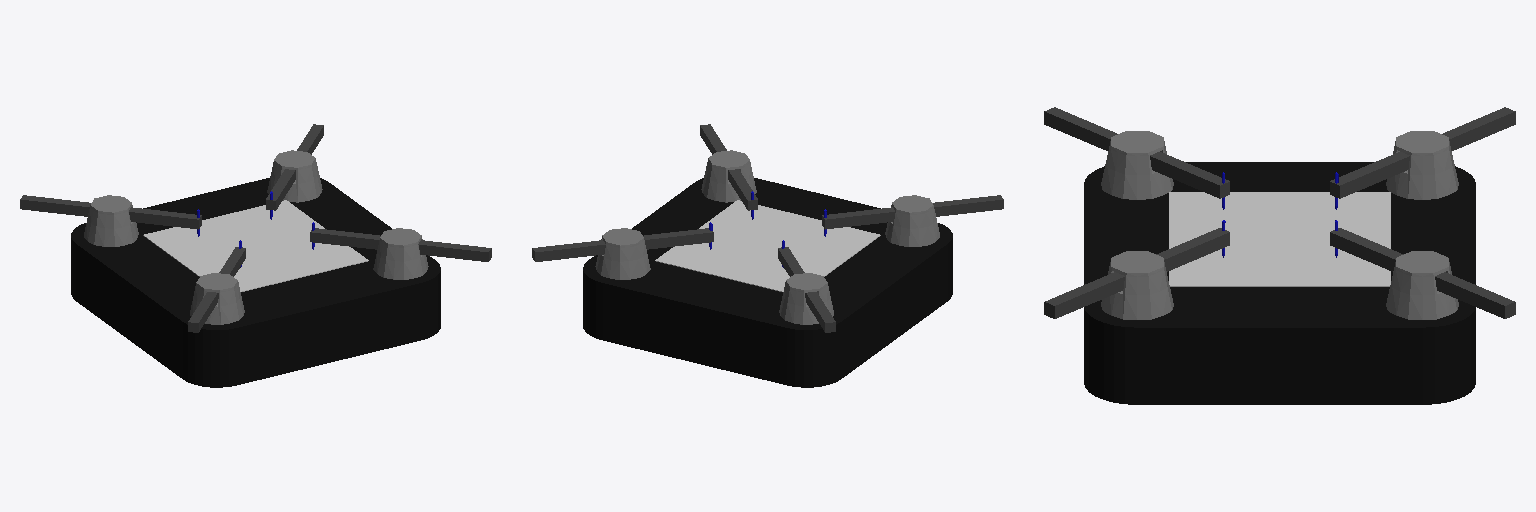
URDF robot description (RAI Robot):
<?xml version="1.0"?>
<robot name="RAI Robot">

<!-- Base Link -->
<link name="base_link">
    <visual>
        <geometry>
            <mesh filename="../models/Base.stl" />
        </geometry>
        <material>
            <color rgba="0.1 0.1 0.1 1.0" />
        </material>
    </visual>
</link>

<!-- Arm 1 -->
<link name="arm_link_1">
    <visual>
        <geometry>
            <mesh filename="../models/Arm.stl" />
        </geometry>
        <material>
            <color rgba="0.3 0.3 0.3 1.0" />
        </material>
    </visual>
</link>
<link name="hub_link_1">
    <visual>
        <geometry>
            <mesh filename="../models/Hub.stl" />
        </geometry>
        <material>
            <color rgba="0.5 0.5 0.5 1.0" />
        </material>
    </visual>
</link>
<link name="pen_link_1">
    <visual>
        <geometry>
            <mesh filename="../models/Pen.stl" />
        </geometry>
        <material>
            <color rgba="0.1 0.1 0.8 1.0" />
        </material>
    </visual>
</link>

<!-- Arm 2 -->
<link name="arm_link_2">
    <visual>
        <geometry>
            <mesh filename="../models/Arm.stl" />
        </geometry>
        <material>
            <color rgba="0.3 0.3 0.3 1.0" />
        </material>
    </visual>
</link>
<link name="hub_link_2">
    <visual>
        <geometry>
            <mesh filename="../models/Hub.stl" />
        </geometry>
        <material>
            <color rgba="0.5 0.5 0.5 1.0" />
        </material>
    </visual>
</link>
<link name="pen_link_2">
    <visual>
        <geometry>
            <mesh filename="../models/Pen.stl" />
        </geometry>
        <material>
            <color rgba="0.1 0.1 0.8 1.0" />
        </material>
    </visual>
</link>

<!-- Arm 3 -->
<link name="arm_link_3">
    <visual>
        <geometry>
            <mesh filename="../models/Arm.stl" />
        </geometry>
        <material>
            <color rgba="0.3 0.3 0.3 1.0" />
        </material>
    </visual>
</link>
<link name="hub_link_3">
    <visual>
        <geometry>
            <mesh filename="../models/Hub.stl" />
        </geometry>
        <material>
            <color rgba="0.5 0.5 0.5 1.0" />
        </material>
    </visual>
</link>
<link name="pen_link_3">
    <visual>
        <geometry>
            <mesh filename="../models/Pen.stl" />
        </geometry>
        <material>
            <color rgba="0.1 0.1 0.8 1.0" />
        </material>
    </visual>
</link>

<!-- Arm 4 -->
<link name="arm_link_4">
    <visual>
        <geometry>
            <mesh filename="../models/Arm.stl" />
        </geometry>
        <material>
            <color rgba="0.3 0.3 0.3 1.0" />
        </material>
    </visual>
</link>
<link name="hub_link_4">
    <visual>
        <geometry>
            <mesh filename="../models/Hub.stl" />
        </geometry>
        <material>
            <color rgba="0.5 0.5 0.5 1.0" />
        </material>
    </visual>
</link>
<link name="pen_link_4">
    <visual>
        <geometry>
            <mesh filename="../models/Pen.stl" />
        </geometry>
        <material>
            <color rgba="0.1 0.1 0.8 1.0" />
        </material>
    </visual>
</link>

<!-- Canvas Link -->
<link name="canvas_link">
    <visual>
        <geometry>
            <mesh filename="../models/Canvas.stl" />
        </geometry>
        <material>
            <color rgba="0.8 0.8 0.8 1.0" />
        </material>
    </visual>
</link>

<!-- Joints -->
<!-- Canvas joint -->
<joint name="base_to_canvas" type="continuous">
    <parent link="base_link" />
    <child link="canvas_link" />
    <origin xyz="0 0 0.75" rpy="0 0 0" />
    <axis xyz="0 0 1" />
    <limit effort="10" velocity="0.1" />
</joint>

<!-- Arm 1 joints -->
<joint name="base_to_hub_1" type="revolute">
    <parent link="base_link" />
    <child link="hub_link_1" />
    <origin xyz="1.17 1.17 0.7" rpy="0 0 -0.7854" />
    <axis xyz="0 0 1" />
    <limit lower="-1.57" upper="1.57" effort="10" velocity="1.0" />
</joint>
<joint name="hub_to_arm_1" type="prismatic">
    <parent link="hub_link_1" />
    <child link="arm_link_1" />
    <origin xyz="0 0 0.285" rpy="0 0 0" />
    <axis xyz="0 -1 0" />
    <limit lower="-0.67" upper="0.67" effort="10" velocity="1.0" />
</joint>
<joint name="arm_to_pen_1" type="prismatic">
    <parent link="arm_link_1" />
    <child link="pen_link_1" />
    <origin xyz="0 -1.0 0" rpy="0 0 0" />
    <axis xyz="0 0 -1" />
    <limit lower="0.0" upper="0.045" effort="10" velocity="1.0" />
</joint>

<!-- Arm 2 joints -->
<joint name="base_to_hub_2" type="revolute">
    <parent link="base_link" />
    <child link="hub_link_2" />
    <origin xyz="-1.17 1.17 0.7" rpy="0 0 -2.3562" />
    <axis xyz="0 0 1" />
    <limit lower="-1.57" upper="1.57" effort="10" velocity="1.0" />
</joint>
<joint name="hub_to_arm_2" type="prismatic">
    <parent link="hub_link_2" />
    <child link="arm_link_2" />
    <origin xyz="0 0 0.285" rpy="0 0 0" />
    <axis xyz="0 1 0" />
    <limit lower="-0.67" upper="0.67" effort="10" velocity="1.0" />
</joint>
<joint name="arm_to_pen_2" type="prismatic">
    <parent link="arm_link_2" />
    <child link="pen_link_2" />
    <origin xyz="0 1.0 0" rpy="0 0 0" />
    <axis xyz="0 0 -1" />
    <limit lower="0.0" upper="0.045" effort="10" velocity="1.0" />
</joint>

<!-- Arm 3 joints -->
<joint name="base_to_hub_3" type="revolute">
    <parent link="base_link" />
    <child link="hub_link_3" />
    <origin xyz="-1.17 -1.17 0.7" rpy="0 0 -0.7854" />
    <axis xyz="0 0 1" />
    <limit lower="-1.57" upper="1.57" effort="10" velocity="1.0" />
</joint>
<joint name="hub_to_arm_3" type="prismatic">
    <parent link="hub_link_3" />
    <child link="arm_link_3" />
    <origin xyz="0 0 0.285" rpy="0 0 0" />
    <axis xyz="0 1 0" />
    <limit lower="-0.67" upper="0.67" effort="10" velocity="1.0" />
</joint>
<joint name="arm_to_pen_3" type="prismatic">
    <parent link="arm_link_3" />
    <child link="pen_link_3" />
    <origin xyz="0 1.0 0" rpy="0 0 0" />
    <axis xyz="0 0 -1" />
    <limit lower="0.0" upper="0.045" effort="10" velocity="1.0" />
</joint>

<!-- Arm 4 joints -->
<joint name="base_to_hub_4" type="revolute">
    <parent link="base_link" />
    <child link="hub_link_4" />
    <origin xyz="1.17 -1.17 0.7" rpy="0 0 -2.3562" />
    <axis xyz="0 0 1" />
    <limit lower="-1.57" upper="1.57" effort="10" velocity="1.0" />
</joint>
<joint name="hub_to_arm_4" type="prismatic">
    <parent link="hub_link_4" />
    <child link="arm_link_4" />
    <origin xyz="0 0 0.285" rpy="0 0 0" />
    <axis xyz="0 -1 0" />
    <limit lower="-0.67" upper="0.67" effort="10" velocity="1.0" />
</joint>
<joint name="arm_to_pen_4" type="prismatic">
    <parent link="arm_link_4" />
    <child link="pen_link_4" />
    <origin xyz="0 -1.0 0" rpy="0 0 0" />
    <axis xyz="0 0 -1" />
    <limit lower="0.0" upper="0.045" effort="10" velocity="1.0" />
</joint>
</robot>

--- Facts derived from the render (not from the file) ---
The picture shows the robot from 3 angles, left to right: view 1: azimuth 30°, elevation 25°; view 2: azimuth 150°, elevation 25°; view 3: azimuth 270°, elevation 25°; orthographic projection.
Model RAI Robot with 14 links and 13 joints (4 revolute, 1 continuous, 8 prismatic), rooted at base_link, posed every joint at zero.
Links seen in each view (by area): view 1: base_link, canvas_link, hub_link_2, hub_link_4, arm_link_4, arm_link_2, hub_link_3, hub_link_1, arm_link_3, arm_link_1; view 2: base_link, canvas_link, hub_link_1, hub_link_3, arm_link_1, arm_link_3, hub_link_2, hub_link_4, arm_link_2, arm_link_4; view 3: base_link, canvas_link, hub_link_1, hub_link_4, hub_link_3, hub_link_2, arm_link_4, arm_link_1, arm_link_3, arm_link_2.
Boxes of the visible links, box(x1,y1,x2,y2) form: base_link: box(71, 178, 440, 387); canvas_link: box(143, 200, 368, 291); hub_link_2: box(84, 195, 138, 246); hub_link_4: box(373, 228, 428, 279); arm_link_4: box(310, 228, 491, 261); arm_link_2: box(20, 195, 201, 229); hub_link_3: box(190, 273, 244, 324); hub_link_1: box(267, 150, 322, 202); arm_link_3: box(188, 247, 245, 332); arm_link_1: box(266, 124, 323, 210); base_link: box(583, 178, 952, 387); canvas_link: box(655, 200, 880, 291); hub_link_1: box(595, 228, 650, 279); hub_link_3: box(885, 195, 939, 246); arm_link_1: box(532, 228, 713, 261); arm_link_3: box(822, 195, 1003, 229); hub_link_2: box(779, 273, 833, 324); hub_link_4: box(701, 150, 756, 202); arm_link_2: box(778, 247, 835, 332); arm_link_4: box(700, 124, 757, 210); base_link: box(1084, 162, 1475, 404); canvas_link: box(1169, 192, 1390, 286); hub_link_1: box(1386, 251, 1458, 319); hub_link_4: box(1101, 251, 1173, 319); hub_link_3: box(1101, 131, 1173, 199); hub_link_2: box(1386, 131, 1458, 199); arm_link_4: box(1044, 228, 1229, 318); arm_link_1: box(1330, 228, 1515, 318); arm_link_3: box(1044, 107, 1229, 198); arm_link_2: box(1330, 107, 1515, 198).
Bounding box of the posed robot: 3.87 × 3.87 × 1.14 m (x, y, z).
Meshes: 5 distinct files referenced, 14 mesh visuals loaded (5 binary STL).
